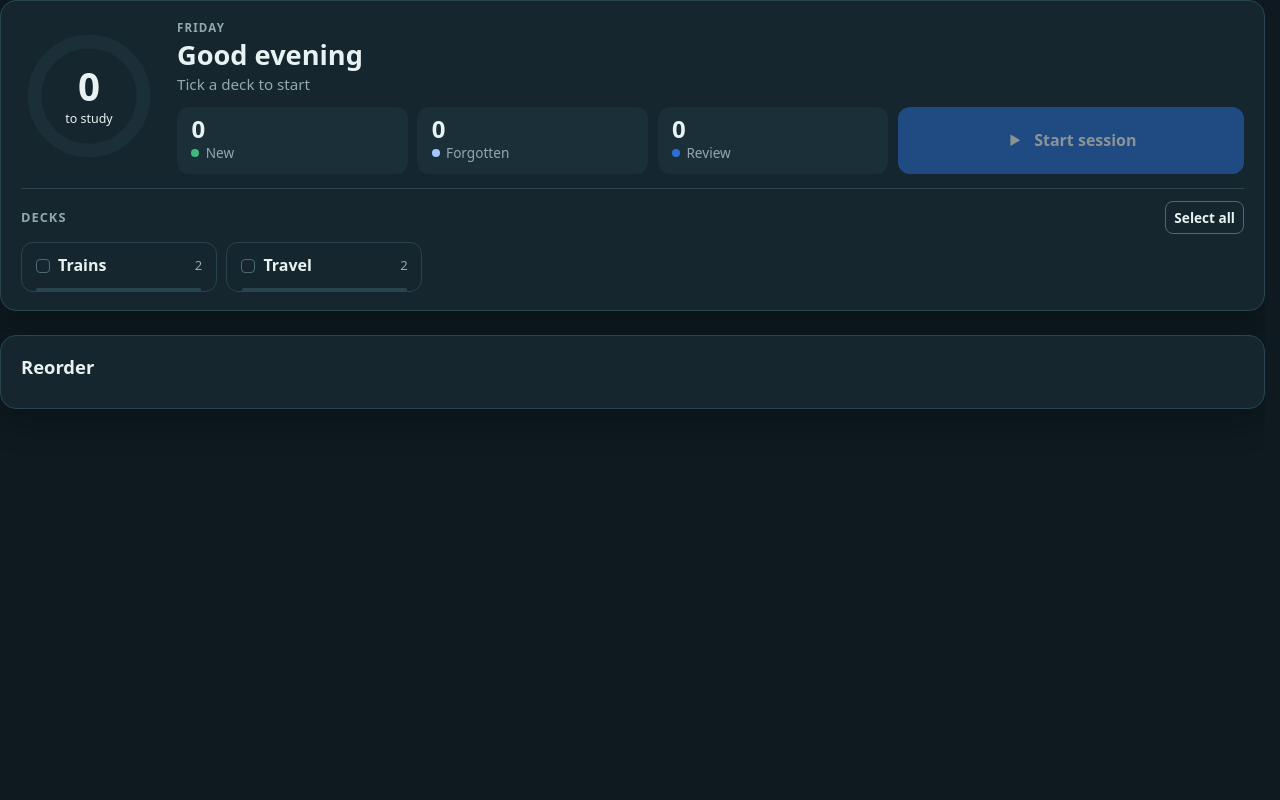
skips a card that was deleted while the session was open
The image size is (1280, 800).
What coordinates should you click on to do the following:
click the button "Trains 2"
I would click on:
 (119, 268)
Its box is [21,242,217,292].
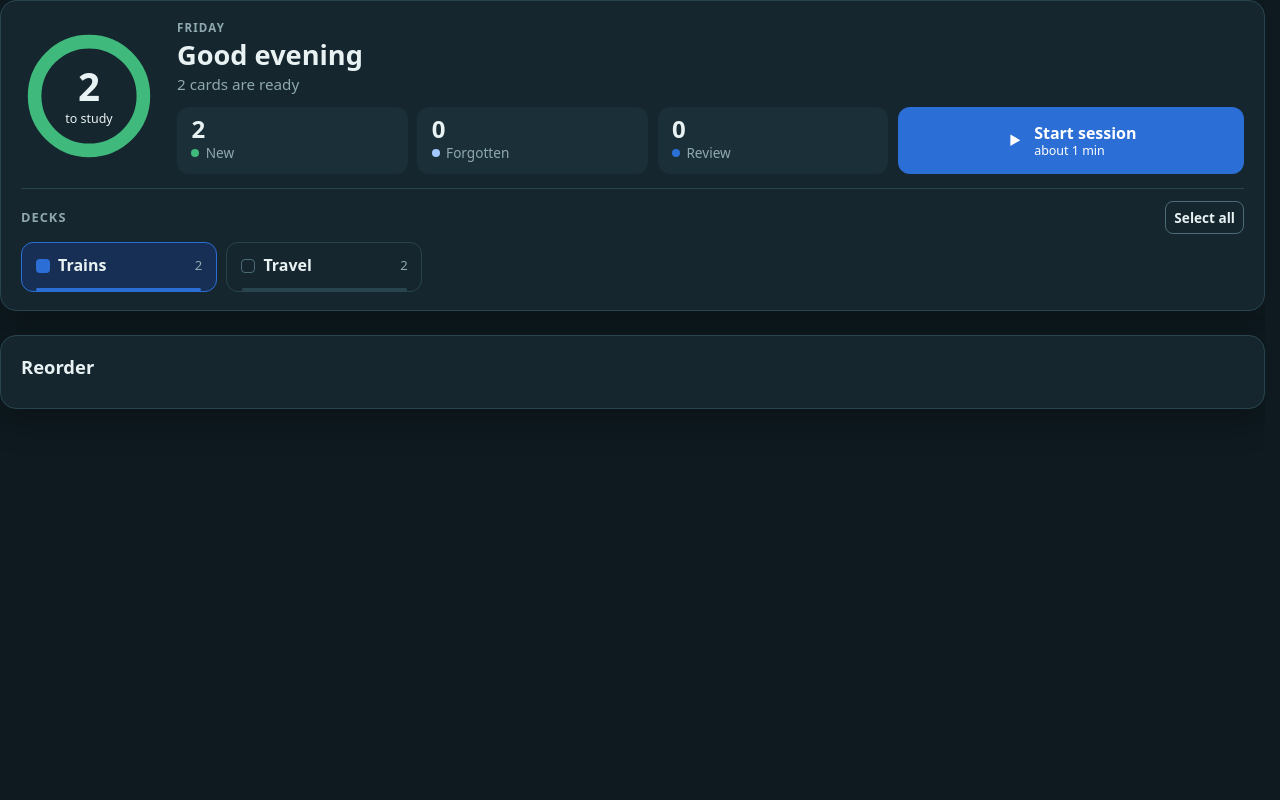
What coordinates should you click on to do the following:
click the button "Start session about 1 min"
I would click on:
 (1071, 140)
Its box is [898,107,1244,174].
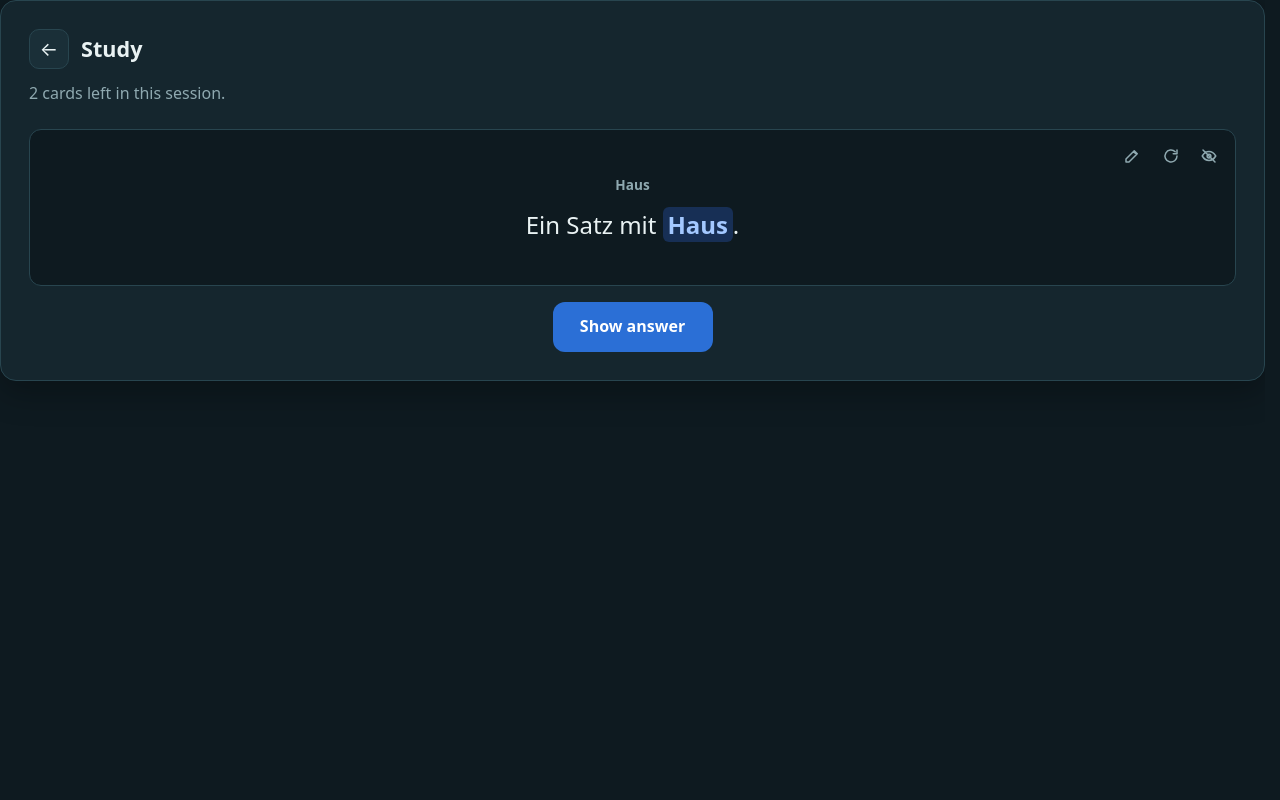
Result: the text with class "study-word" reads "Haus" at [615,175,650,194]
What coordinates should you click on to do the following:
click the button "Show answer"
I would click on:
 (632, 327)
Its box is [552,302,712,352].
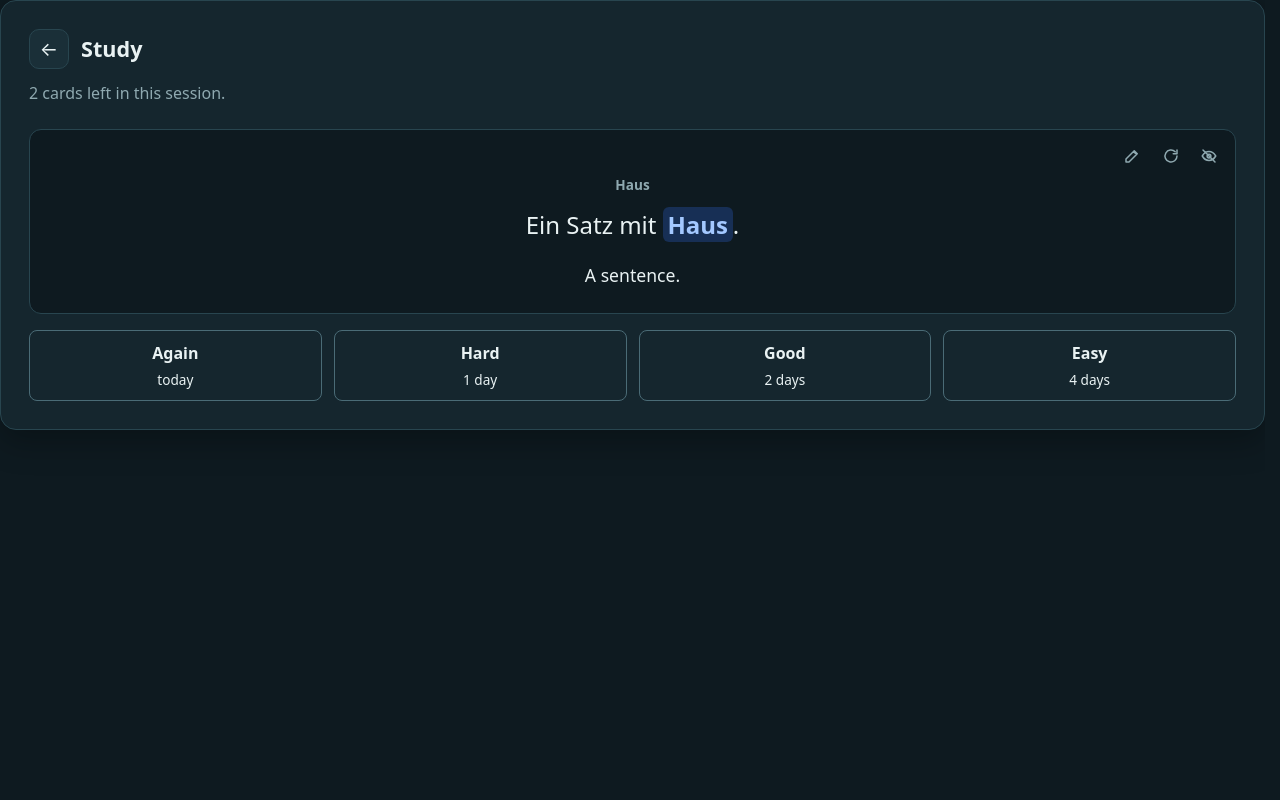
What coordinates should you click on to do the following:
click the button "Good 2 days"
I would click on:
 (785, 366)
Its box is [638,330,931,401].
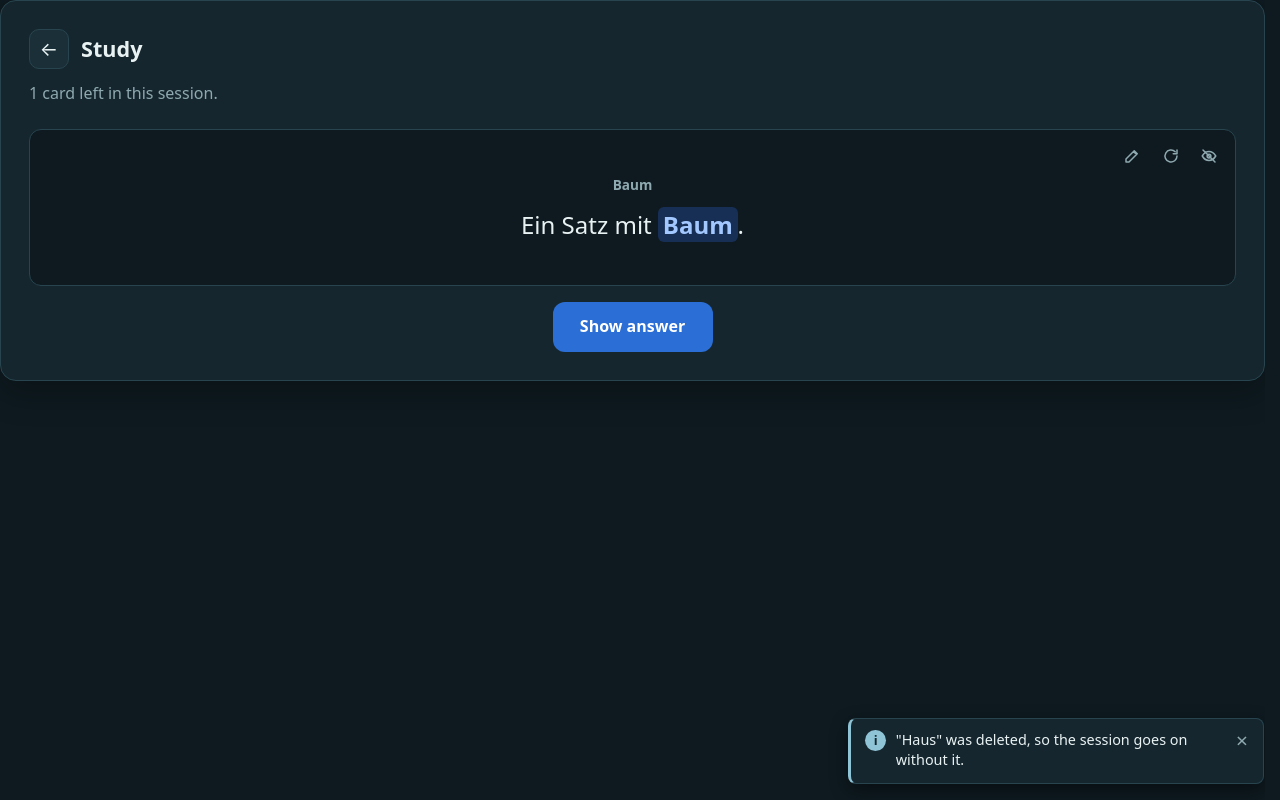
Result: the text with class "study-word" reads "Baum" at [613,175,652,194]
Result: the text "was deleted" is shown at [896,730,1187,769]
Result: the text "1 card left in this session" is shown at [29,82,218,104]
